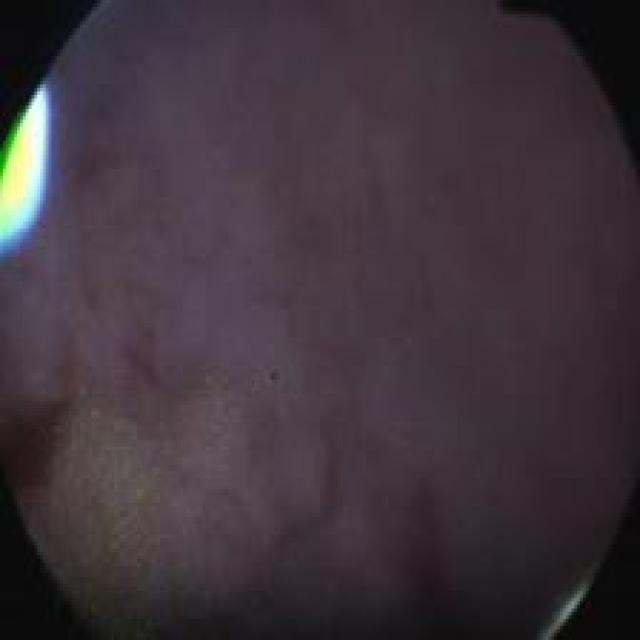color misalignment: (4, 83, 50, 244), (265, 369, 283, 388)
contrast: (11, 22, 631, 628)
